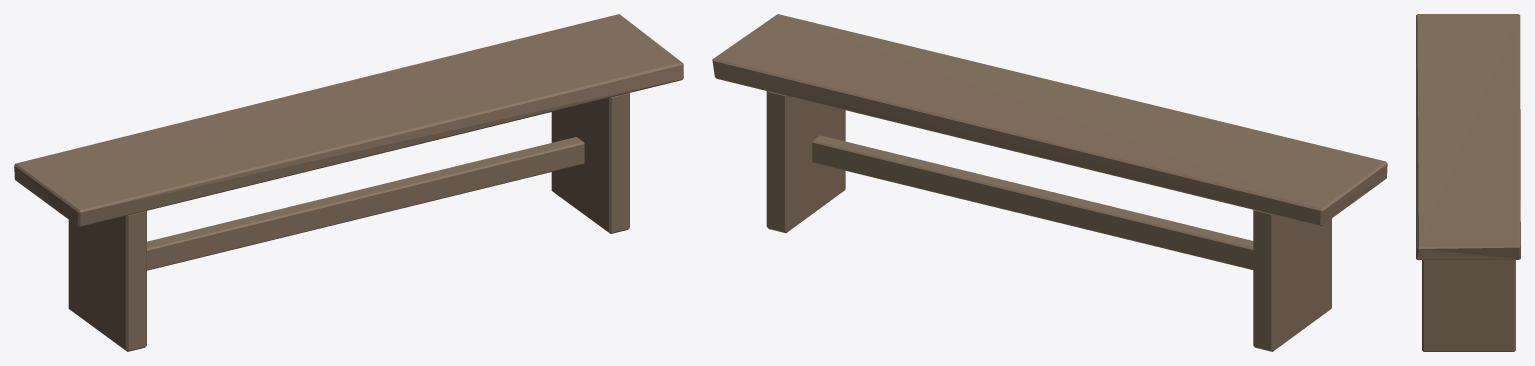
Rendered from bench.glb.
3 renders of one model, left to right at view 1: azimuth 30°, elevation 25°; view 2: azimuth 150°, elevation 25°; view 3: azimuth 270°, elevation 25°, orthographic. The views are drawn at different scales.
Visible parts, largest first — view 1: wood; view 2: wood; view 3: wood.
Boxes of the visible parts, left/top/right/bottom form: wood: left=14, top=14, right=683, bottom=351; wood: left=712, top=14, right=1387, bottom=351; wood: left=1416, top=14, right=1520, bottom=351.
Bounding box in the file's own units: 2.01 × 0.504 × 0.3798.
